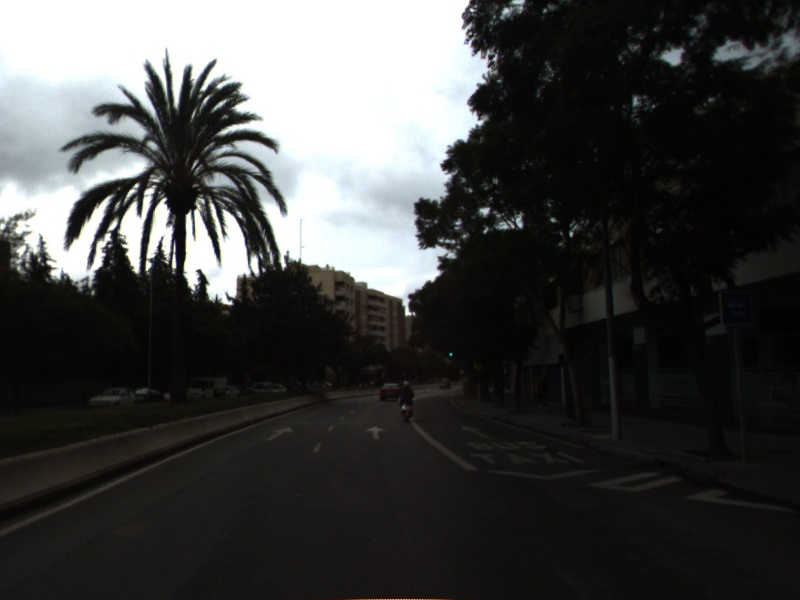STRAIGHT: (459, 423, 494, 441), (264, 424, 296, 443), (363, 424, 389, 441)
